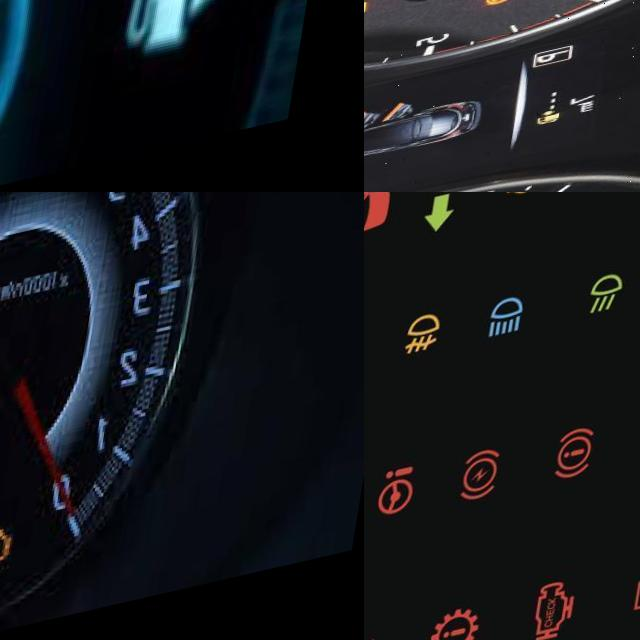Electronic Power Steering: (385, 471, 430, 531)
Seat Belt: (364, 0, 384, 13)
